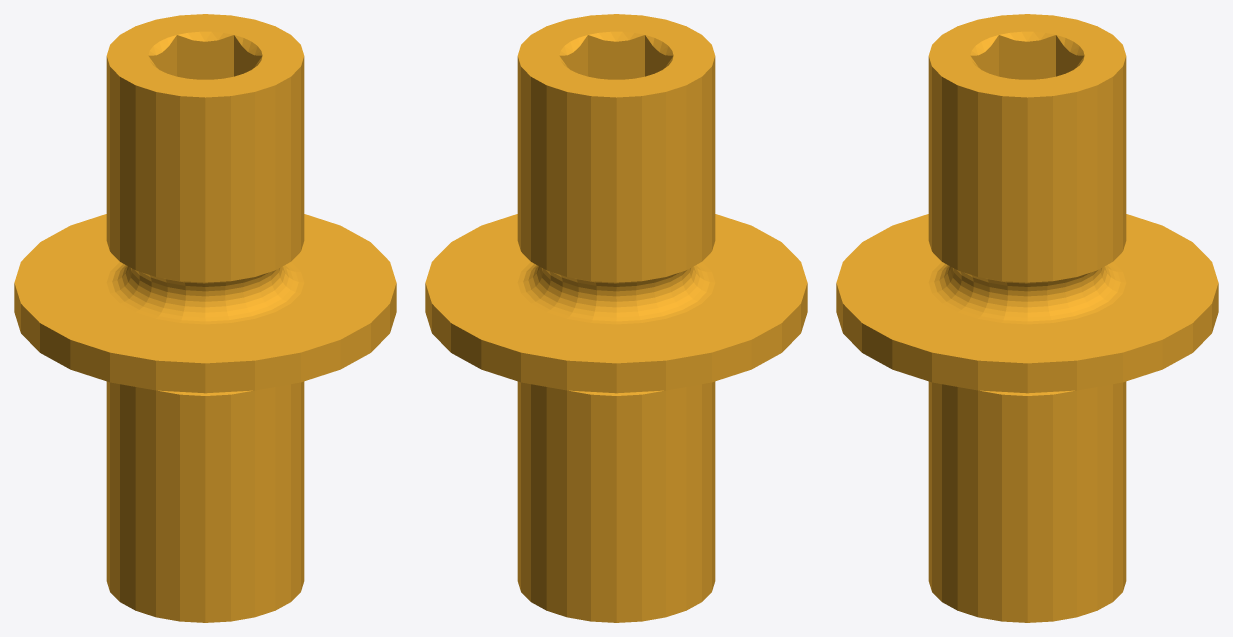
File: kria_kv_260_JSOM_T_XX_XX_XX_1_SOLID1_JSOM_T_XX_XX_XX_1_SOLID1.obj
The picture shows the model from 3 angles, left to right: view 1: azimuth 30°, elevation 25°; view 2: azimuth 150°, elevation 25°; view 3: azimuth 270°, elevation 25°; orthographic projection.
Bounding box in the file's own units: 0.0058 × 0.0088 × 0.0058.
